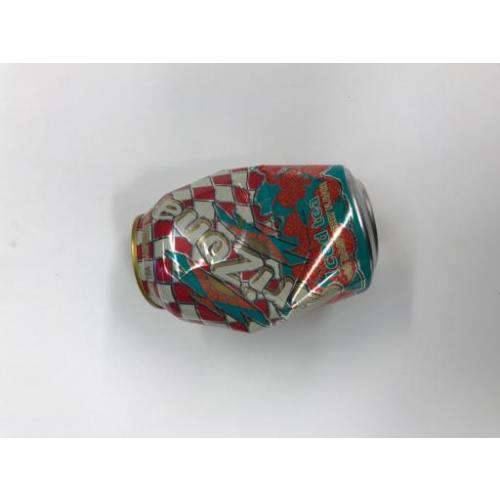metal: (135, 162, 384, 330)
